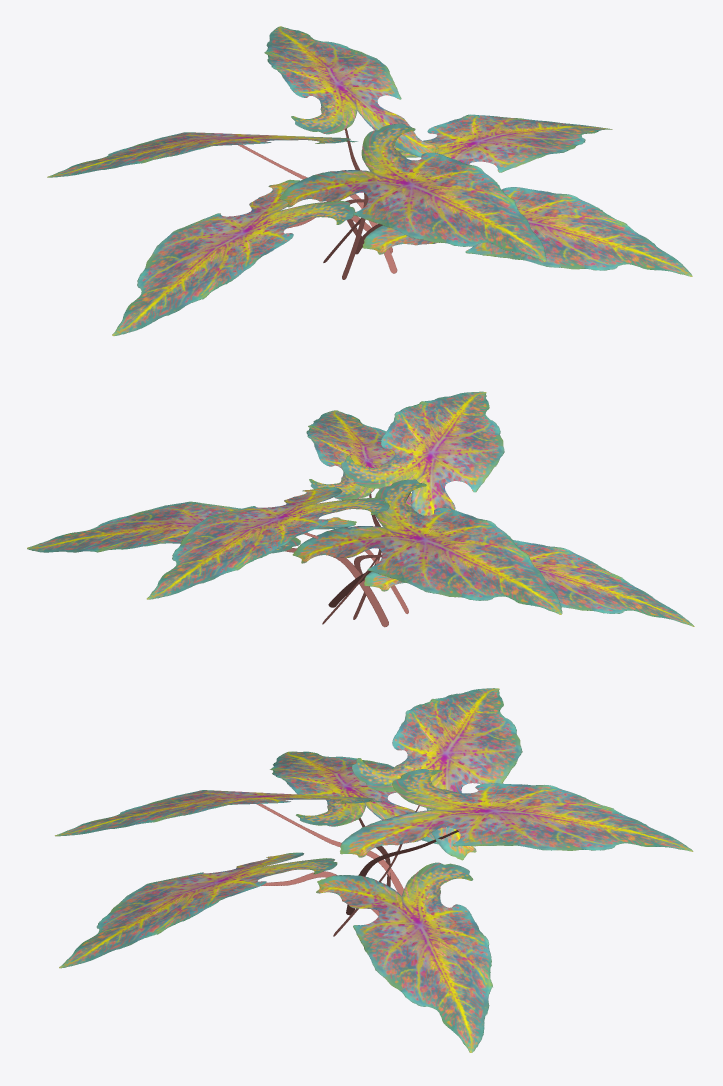
File: Sickle Wort 3.fbx
The picture shows the model from 3 angles, top to bottom: view 1: azimuth 30°, elevation 25°; view 2: azimuth 150°, elevation 25°; view 3: azimuth 270°, elevation 25°; orthographic projection. The views are drawn at different scales.
Parts seen in each view (by area): view 1: Sickle Wort 3; view 2: Sickle Wort 3; view 3: Sickle Wort 3.
Part boxes in pixels (x1=…): Sickle Wort 3: x1=47, y1=26, x2=692, y2=335; Sickle Wort 3: x1=27, y1=391, x2=694, y2=627; Sickle Wort 3: x1=55, y1=688, x2=693, y2=1052.
Bounding box in the file's own units: 274 × 60.03 × 242.
